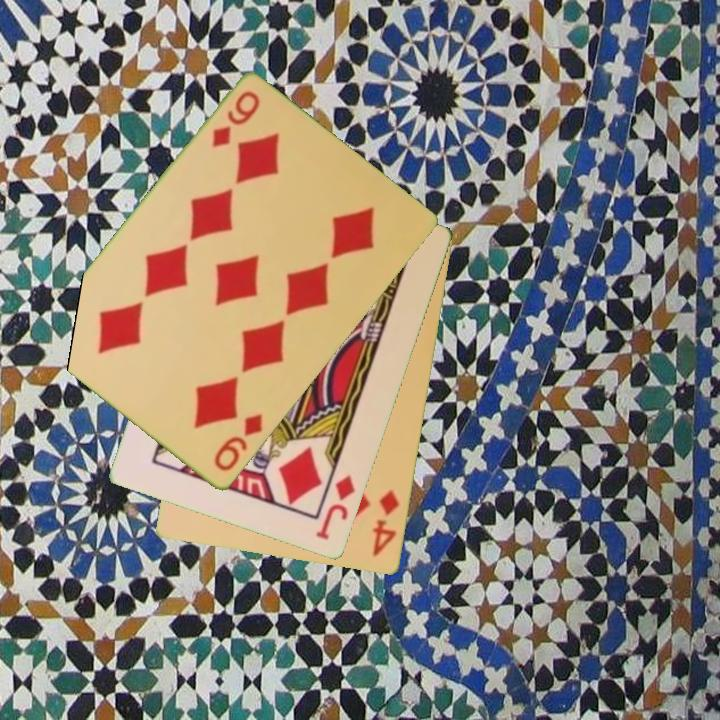4d: (369, 486, 403, 560)
9d: (210, 410, 266, 475), (208, 88, 263, 152)
Jd: (313, 472, 359, 544)
